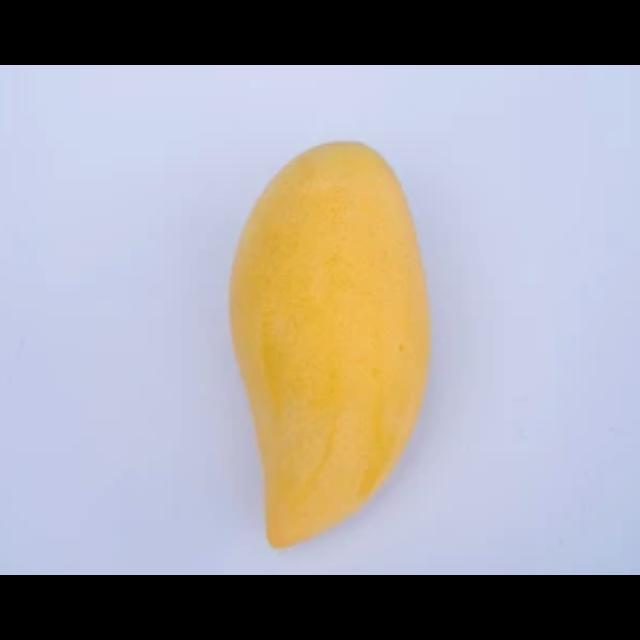mango: (229, 141, 431, 550)
